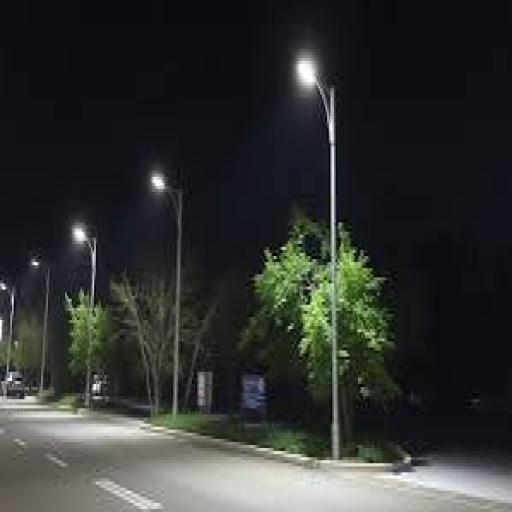odn_pole: (296, 58, 342, 460), (151, 174, 183, 418), (72, 226, 98, 406), (28, 265, 46, 396), (0, 287, 9, 393)
